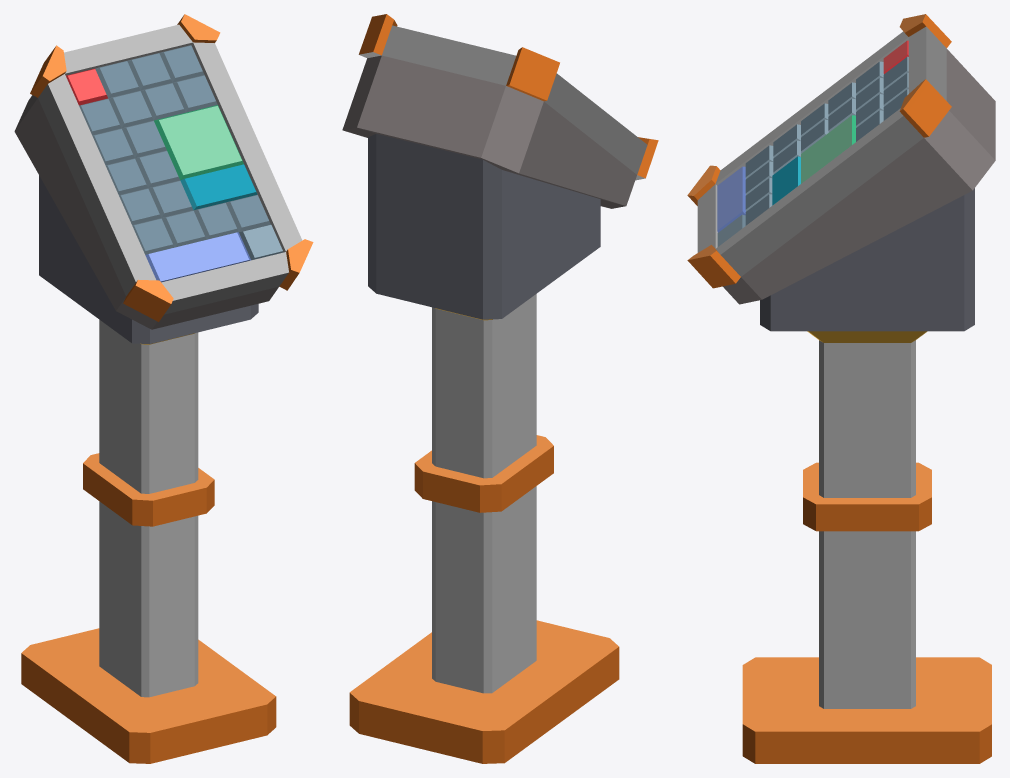
File: KeyboardSciFi_01.glb
3 renders of one model, left to right at view 1: azimuth 30°, elevation 25°; view 2: azimuth 150°, elevation 25°; view 3: azimuth 270°, elevation 25°, orthographic. The views are drawn at different scales.
Visible parts, largest first — view 1: KeyboardSciFi_01; view 2: KeyboardSciFi_01; view 3: KeyboardSciFi_01.
Boxes of the visible parts, x1,y1,x2,y2 form: KeyboardSciFi_01: [14, 14, 313, 763]; KeyboardSciFi_01: [342, 14, 658, 763]; KeyboardSciFi_01: [687, 14, 995, 763].
Size of what is drawn, in the model's own units: 0.1422 by 0.4996 by 0.2052.
1 material, 1 textured.
